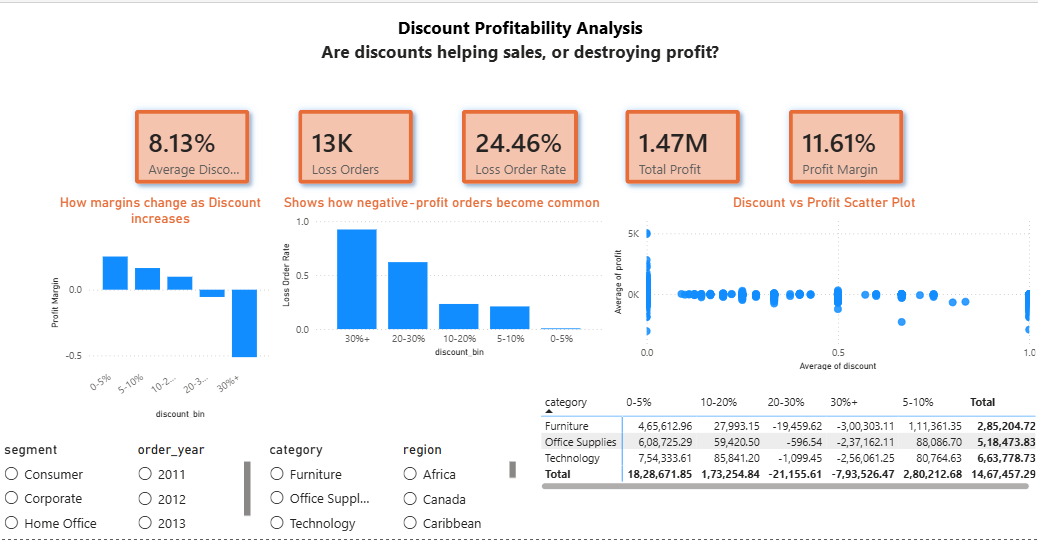

This screenshot's page, from the dashboard's own definition file:
{"tool":"powerbi","page":{"name":"Discount Profitability Analysis","canvas":[1280,720],"ordinal":2},"visuals":[{"type":"textbox","box":[10,0,280,280],"z":0},{"type":"cardVisual","fields":{"Data":["superstore_cleaned.Total Profit"]},"box":[740.8,162.5,199.4,149.5],"z":0,"group":"g1"},{"type":"listSlicer","fields":{"Values":["superstore_cleaned.category"]},"box":[327.4,600,149.5,120],"z":0,"group":"g2"},{"type":"textbox","box":[374.2,69.9,531,96.4],"z":1000},{"type":"cardVisual","fields":{"Data":["superstore_cleaned.Profit Margin"]},"box":[941.5,162.5,199.4,149.5],"z":1000,"group":"g1"},{"type":"listSlicer","fields":{"Values":["superstore_cleaned.region"]},"box":[491.1,600,149.5,120],"z":1000,"group":"g2"},{"type":"cardVisual","fields":{"Data":["superstore_cleaned.Average Discount"]},"box":[136.6,162.5,199.4,149.5],"z":2000,"group":"g1"},{"type":"textbox","box":[10,570,280,150],"z":2000},{"type":"listSlicer","fields":{"Values":["superstore_cleaned.segment"]},"box":[0,600,149.5,120],"z":2000,"group":"g2"},{"type":"group","id":"g1","title":"Group 1","box":[136.6,162.5,1004.3,149.5],"z":3000},{"type":"cardVisual","fields":{"Data":["superstore_cleaned.Loss Orders"]},"box":[337.4,162.5,199.4,149.5],"z":3000,"group":"g1"},{"type":"listSlicer","fields":{"Values":["superstore_cleaned.order_year"]},"box":[163.7,600,149.5,120],"z":3000,"group":"g2"},{"type":"cardVisual","fields":{"Data":["superstore_cleaned.Loss Order Rate"]},"box":[538.1,162.5,201.2,149.5],"z":4000,"group":"g1"},{"type":"clusteredColumnChart","title":"How margins change as Discount increases","fields":{"Y":["superstore_cleaned.Profit Margin"],"Category":["superstore_cleaned.discount_bin"]},"box":[57.2,295.4,280.6,280.6],"z":4000},{"type":"clusteredColumnChart","title":"Shows how negative-profit orders become common","fields":{"Y":["superstore_cleaned.Loss Order Rate"],"Category":["superstore_cleaned.discount_bin"]},"box":[341.5,295.4,404.3,204.9],"z":5000},{"type":"scatterChart","title":"Discount  vs Profit Scatter Plot","fields":{"X":["Avg(superstore_cleaned.discount)"],"Y":["Avg(superstore_cleaned.profit)"],"Category":["superstore_cleaned.order_id"]},"box":[749.5,295.4,529.9,221.5],"z":6000},{"type":"pivotTable","fields":{"Rows":["superstore_cleaned.category"],"Values":["superstore_cleaned.Total Profit"],"Columns":["superstore_cleaned.discount_bin"]},"box":[660.9,535.4,618.5,129.2],"z":7000},{"type":"group","id":"g2","title":"Group 2","box":[0,600,640.6,120],"z":8000}]}

Visuals, with their boxes on the page's 1280x720 design canvas (x1, y1, x2, y2). These are canvas units, not pixel positions in the 1038x540 screenshot, which may show the page scaled, cropped or inside an application window:
textbox: detection(10, 0, 290, 280)
cardVisual - superstore_cleaned.Total Profit: detection(741, 162, 940, 312)
listSlicer - superstore_cleaned.category: detection(327, 600, 477, 720)
textbox: detection(374, 70, 905, 166)
cardVisual - superstore_cleaned.Profit Margin: detection(942, 162, 1141, 312)
listSlicer - superstore_cleaned.region: detection(491, 600, 641, 720)
cardVisual - superstore_cleaned.Average Discount: detection(137, 162, 336, 312)
textbox: detection(10, 570, 290, 720)
listSlicer - superstore_cleaned.segment: detection(0, 600, 150, 720)
"Group 1" group: detection(137, 162, 1141, 312)
cardVisual - superstore_cleaned.Loss Orders: detection(337, 162, 537, 312)
listSlicer - superstore_cleaned.order_year: detection(164, 600, 313, 720)
cardVisual - superstore_cleaned.Loss Order Rate: detection(538, 162, 739, 312)
"How margins change as Discount increases" clusteredColumnChart: detection(57, 295, 338, 576)
"Shows how negative-profit orders become common" clusteredColumnChart: detection(342, 295, 746, 500)
"Discount  vs Profit Scatter Plot" scatterChart: detection(750, 295, 1279, 517)
pivotTable - superstore_cleaned.category x superstore_cleaned.Total Profit: detection(661, 535, 1279, 665)
"Group 2" group: detection(0, 600, 641, 720)
